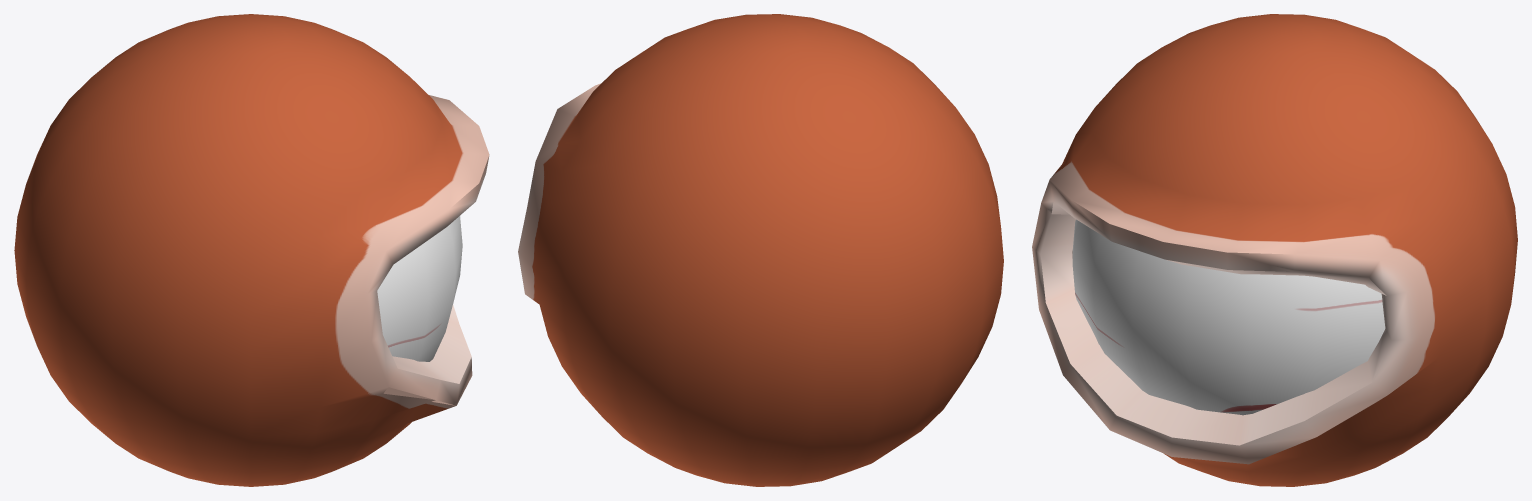
File: eyeball2.fbx
3 renders of one model, left to right at view 1: azimuth 30°, elevation 25°; view 2: azimuth 150°, elevation 25°; view 3: azimuth 270°, elevation 25°, orthographic.
Visible parts, largest first — view 1: pSphere4; view 2: pSphere4; view 3: pSphere4.
Part boxes in pixels (box(x1,y1,x2,y2)): pSphere4: box(14, 14, 489, 486); pSphere4: box(518, 14, 1003, 486); pSphere4: box(1032, 14, 1517, 486).
Bounding box in the file's own units: 2.22 × 2.23 × 2.28.
Materials: 2 (2 with a texture image).
